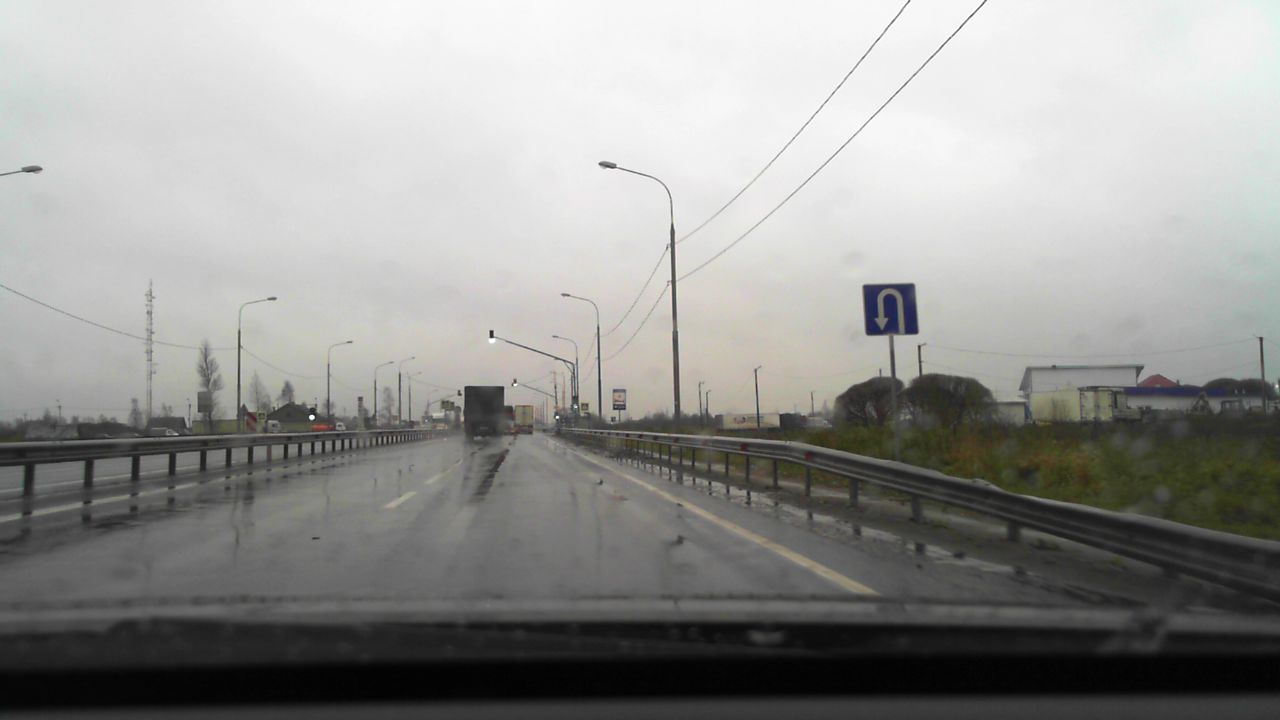U-turn: (863, 284, 917, 335)
